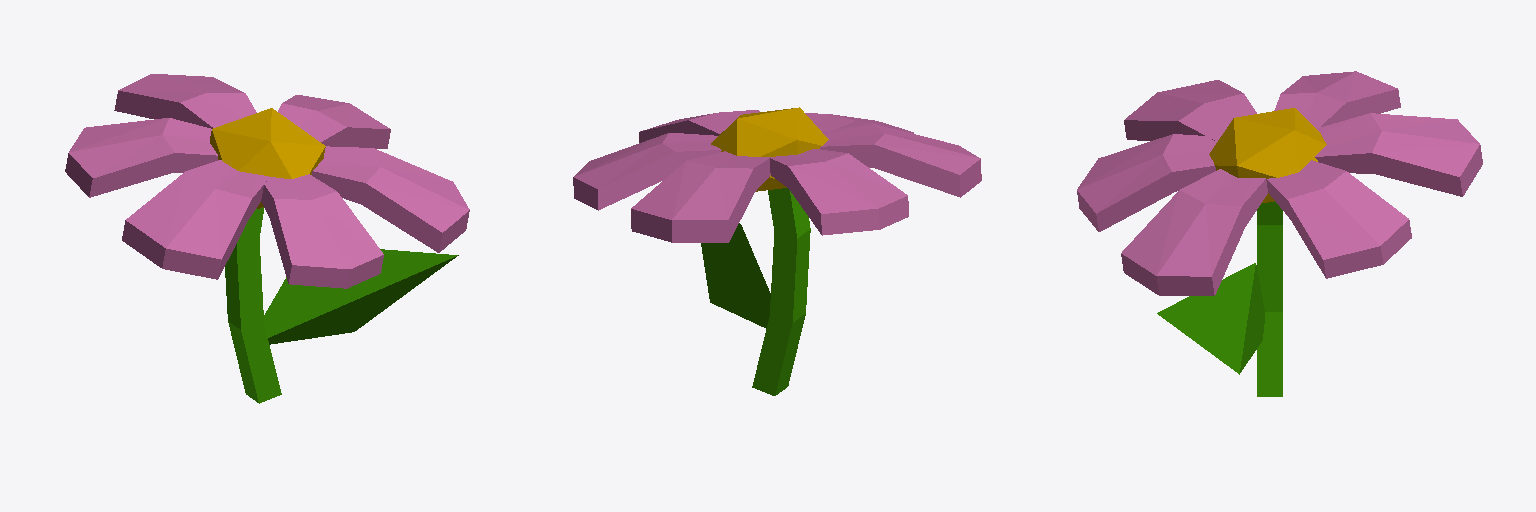
The model's file is bullet.obj.
3 views of the same model, side by side, from view 1: azimuth 30°, elevation 25°; view 2: azimuth 150°, elevation 25°; view 3: azimuth 270°, elevation 25° (orthographic).
Visible parts, largest first — view 1: Cube; view 2: Cube; view 3: Cube.
Boxes of the visible parts, x1,y1,x2,y2 form: Cube: [65, 74, 469, 403]; Cube: [573, 107, 981, 395]; Cube: [1077, 71, 1482, 396].
Size of the model in its own units: 1.13 by 0.9049 by 1.22.